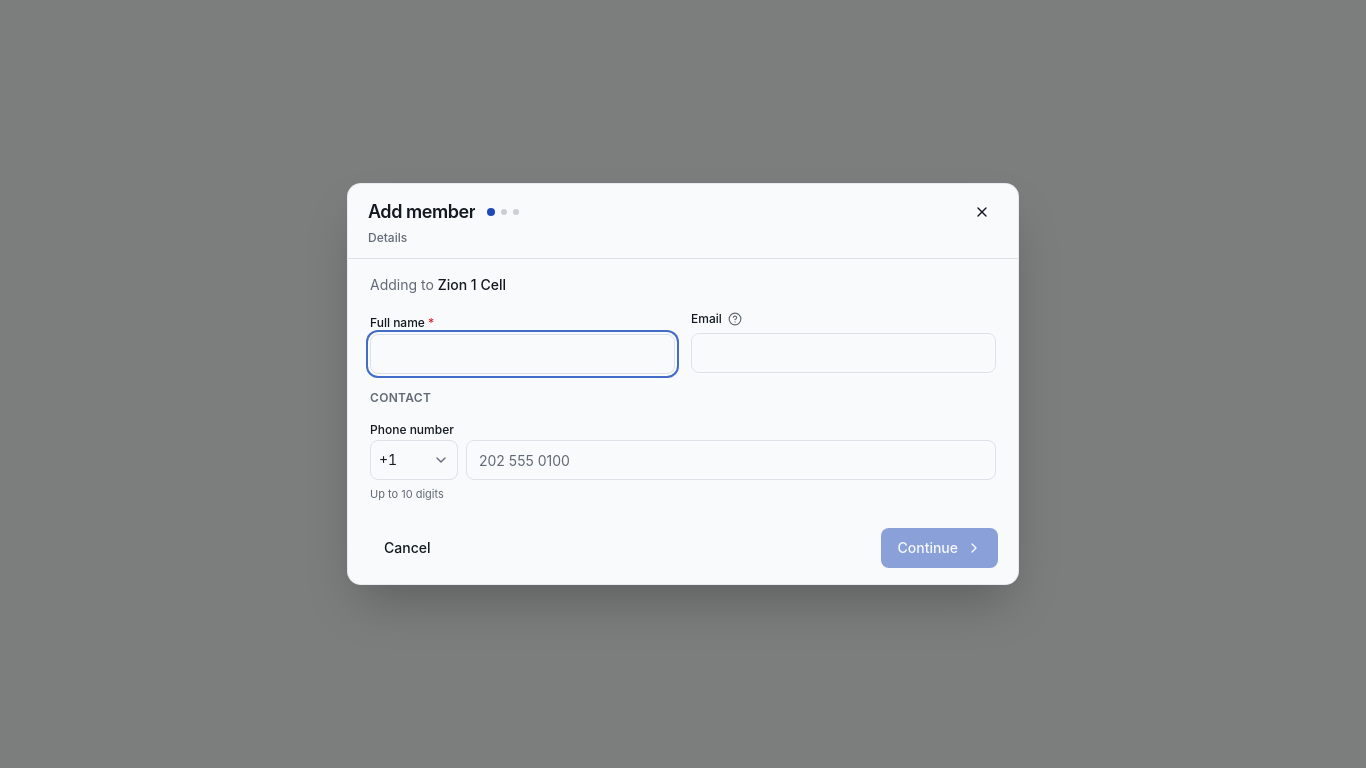
MemberCreateWizard › skips new-to-church, leaves email optional, and requires birthday on the next step
Expected: the dropdown named "Country code" reads "+1", left=370, top=440, right=458, bottom=480
Expected: the heading "Add member" is shown, left=368, top=198, right=475, bottom=226
Type "Ama Boateng" into the field with id "member-name" at point(522, 354), box left=370, top=334, right=675, bottom=374
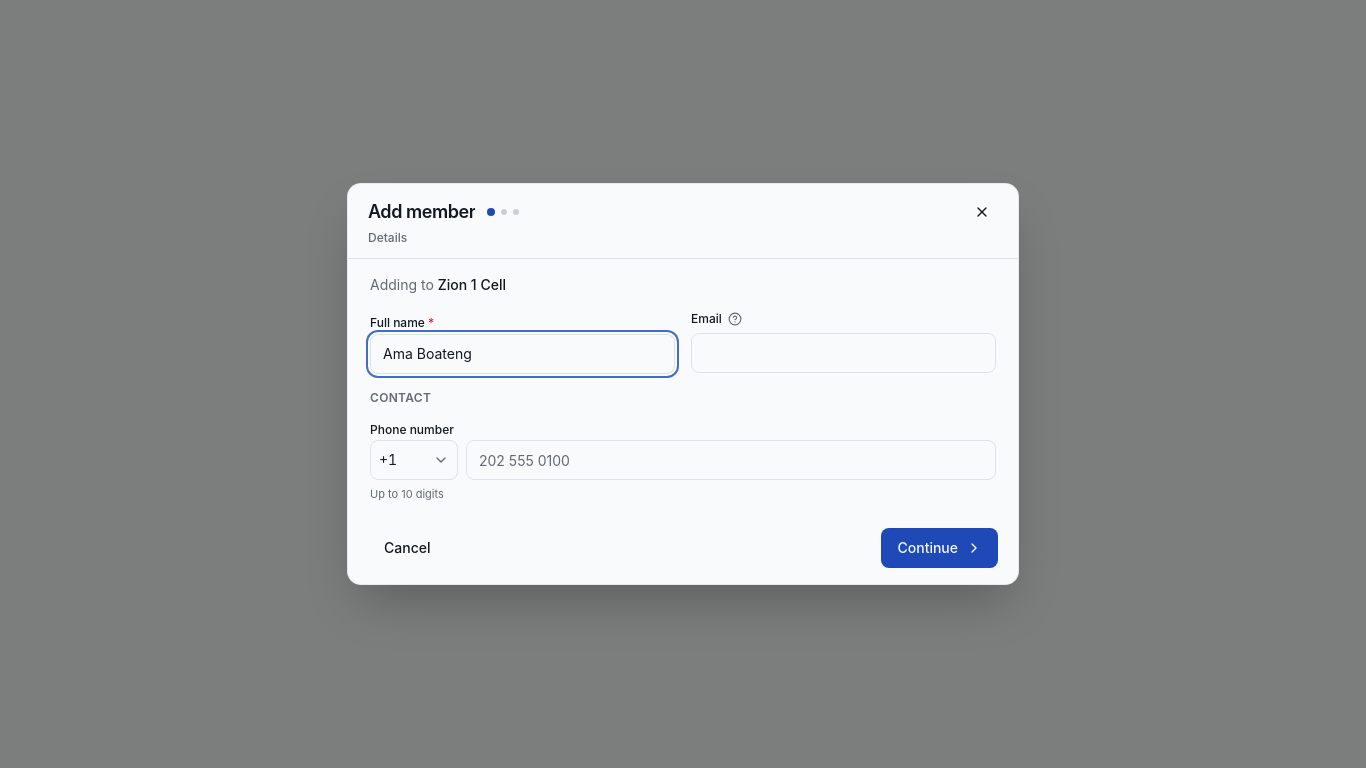
Click the button "Continue" at point(940, 548), box left=882, top=528, right=998, bottom=568
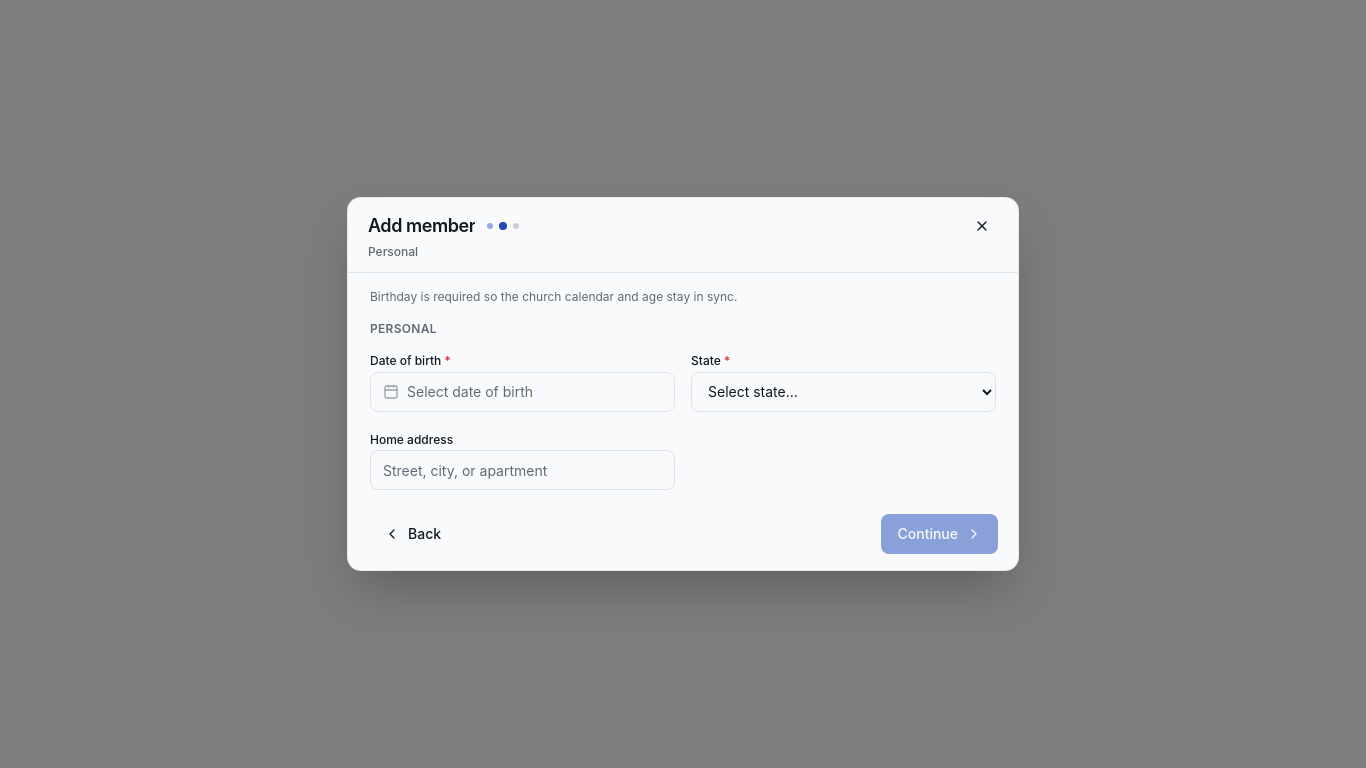
Now the text "Birthday is required" is shown, box left=370, top=289, right=737, bottom=304
Now the button "Select date of birth" is shown, box left=370, top=372, right=675, bottom=412
Now the button "Continue" is disabled, box left=882, top=514, right=998, bottom=554
